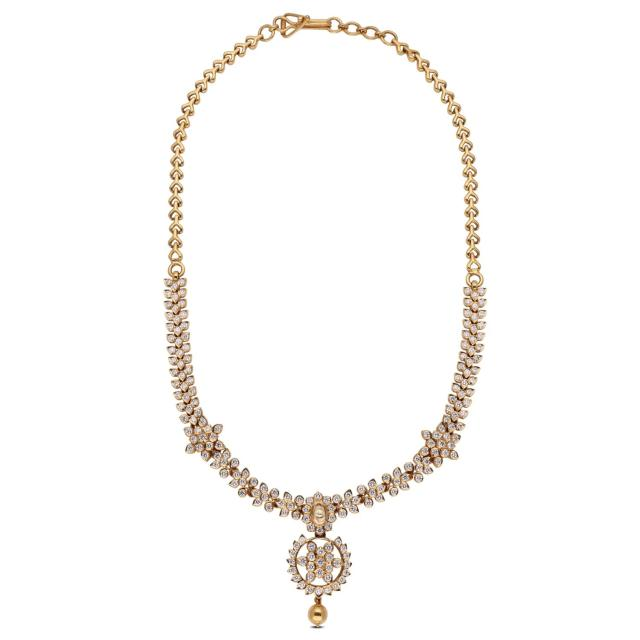missing gem: (312, 504, 327, 526)
